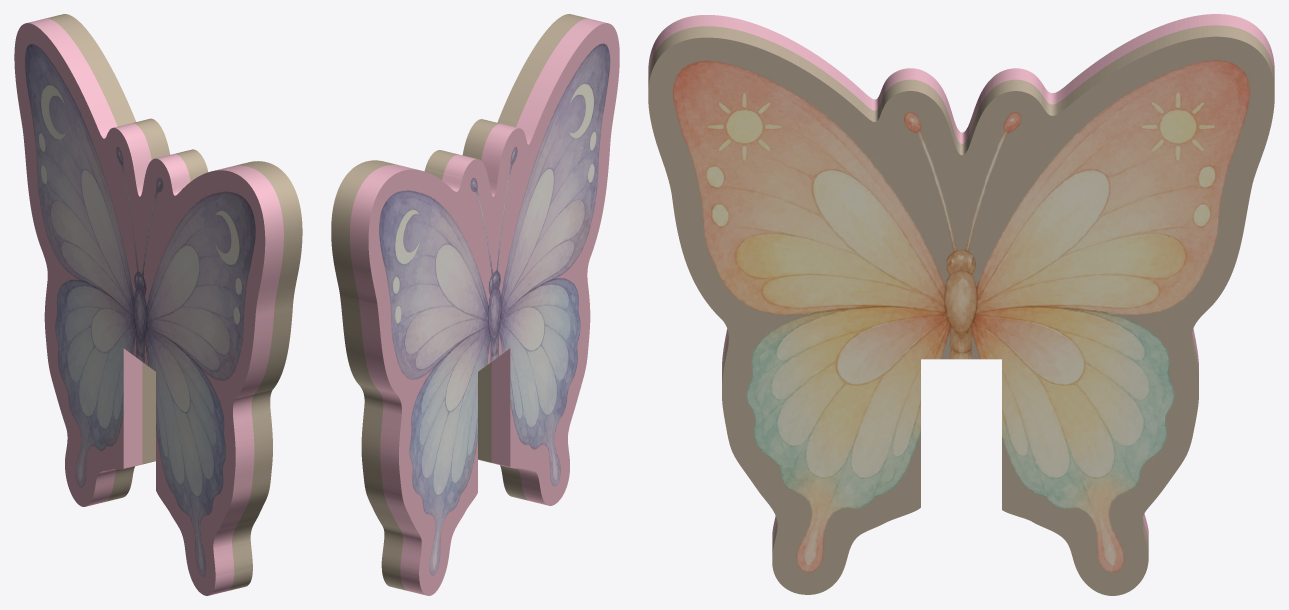
The picture shows the model from 3 angles, left to right: view 1: azimuth 30°, elevation 25°; view 2: azimuth 150°, elevation 25°; view 3: azimuth 270°, elevation 25°; orthographic projection. The views are drawn at different scales.
Visible parts, largest first — view 1: p017; view 2: p017; view 3: p017.
Boxes of the visible parts, bbox=[...] form: p017: bbox=[14, 14, 302, 595]; p017: bbox=[331, 14, 619, 595]; p017: bbox=[648, 14, 1274, 595].
Bounding box in the file's own units: 18 × 206 × 210.
Materials: 4 (2 with a texture image).
